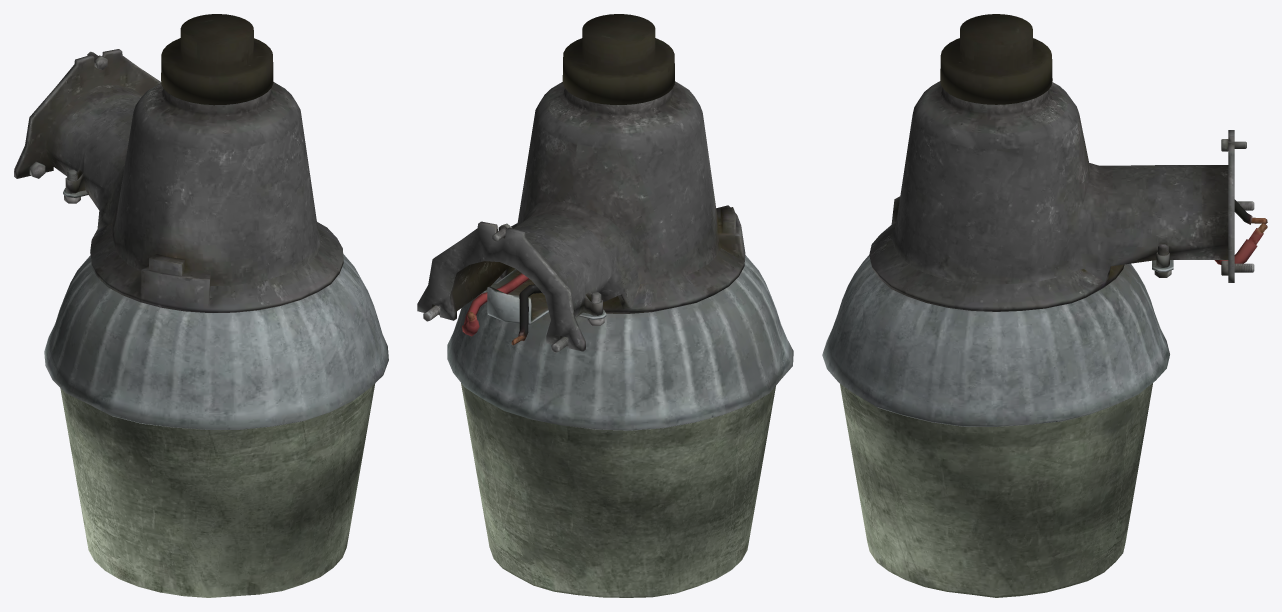
The model's file is security_light.glb.
3 renders of one model, left to right at view 1: azimuth 30°, elevation 25°; view 2: azimuth 150°, elevation 25°; view 3: azimuth 270°, elevation 25°, orthographic.
Parts seen in each view (by area): view 1: security_light, security_light_glass; view 2: security_light, security_light_glass; view 3: security_light, security_light_glass.
Boxes of the visible parts, left/top/right/bottom form: security_light: left=14, top=14, right=388, bottom=429; security_light_glass: left=60, top=383, right=375, bottom=597; security_light: left=417, top=14, right=793, bottom=430; security_light_glass: left=461, top=383, right=775, bottom=597; security_light: left=822, top=14, right=1267, bottom=426; security_light_glass: left=840, top=383, right=1152, bottom=597.
Bounding box in the file's own units: 0.3231 × 0.531 × 0.4172.
2 materials, 2 textured.
